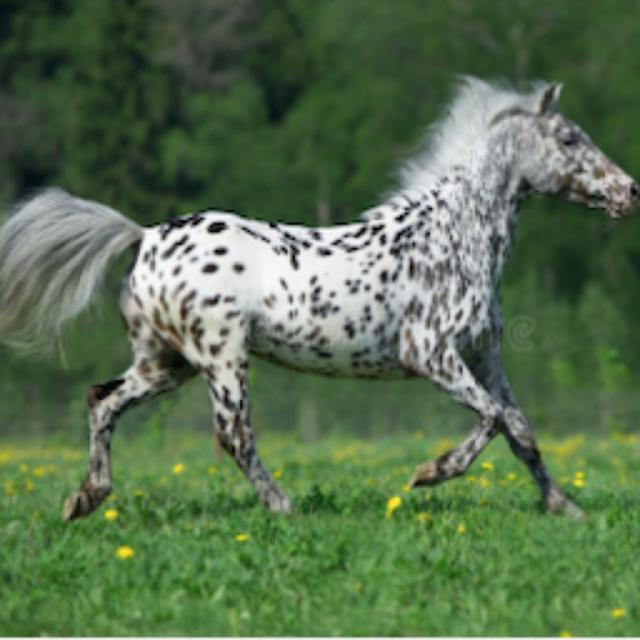Horse: (0, 70, 638, 525), (0, 182, 148, 372)
